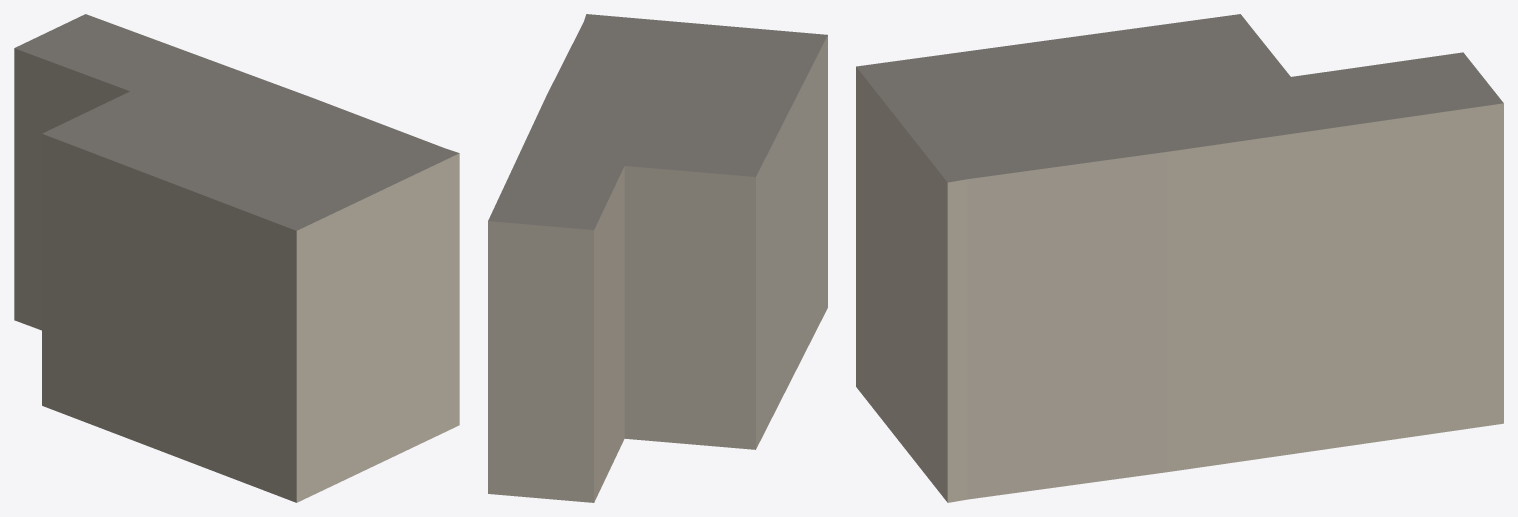
3 renders of one model, left to right at view 1: azimuth 30°, elevation 25°; view 2: azimuth 150°, elevation 25°; view 3: azimuth 270°, elevation 25°, orthographic. The views are drawn at different scales.
Parts seen in each view (by area): view 1: HP-w1211967111; view 2: HP-w1211967111; view 3: HP-w1211967111.
Part boxes in pixels (<box>): HP-w1211967111: <box>14,14,459,502</box>; HP-w1211967111: <box>488,14,827,502</box>; HP-w1211967111: <box>856,14,1503,502</box>.
Size of the model in its own units: 20.31 by 18 by 32.98.
